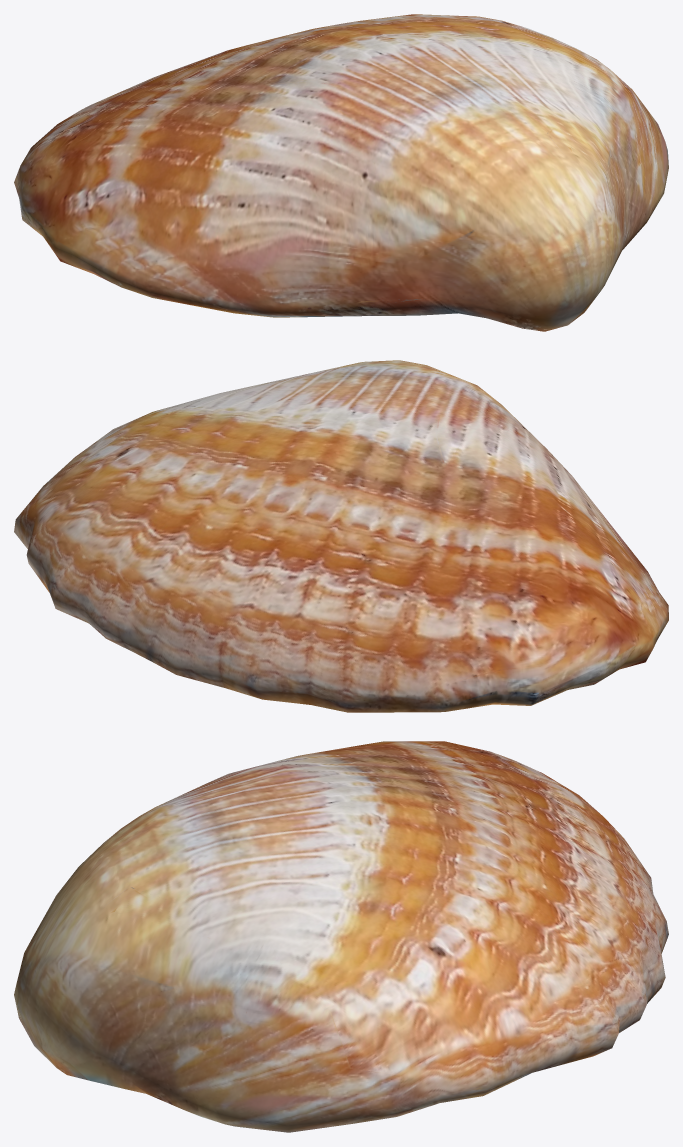
Rendered from Cockle6.fbx.
3 views of the same model, one above another, from view 1: azimuth 30°, elevation 25°; view 2: azimuth 150°, elevation 25°; view 3: azimuth 270°, elevation 25° (orthographic). The views are drawn at different scales.
Visible parts, largest first — view 1: Cockel6_LOD0; view 2: Cockel6_LOD0; view 3: Cockel6_LOD0.
Boxes of the visible parts, left/top/right/bottom form: Cockel6_LOD0: left=14, top=14, right=668, bottom=331; Cockel6_LOD0: left=14, top=360, right=668, bottom=712; Cockel6_LOD0: left=14, top=741, right=668, bottom=1132.
Size of what is drawn, in the model's own units: 24.58 by 8.14 by 21.04.
